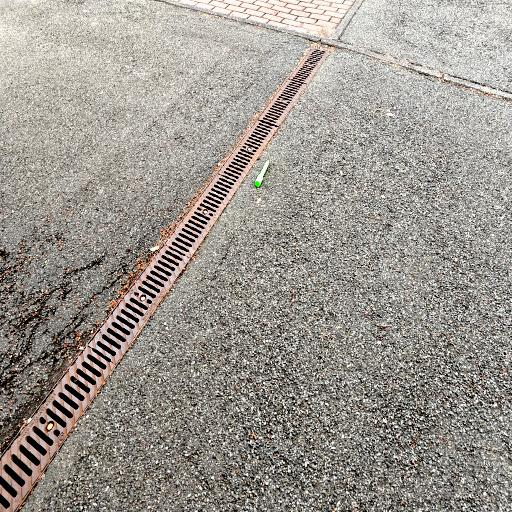Probe-Detection: (255, 160, 269, 187)
